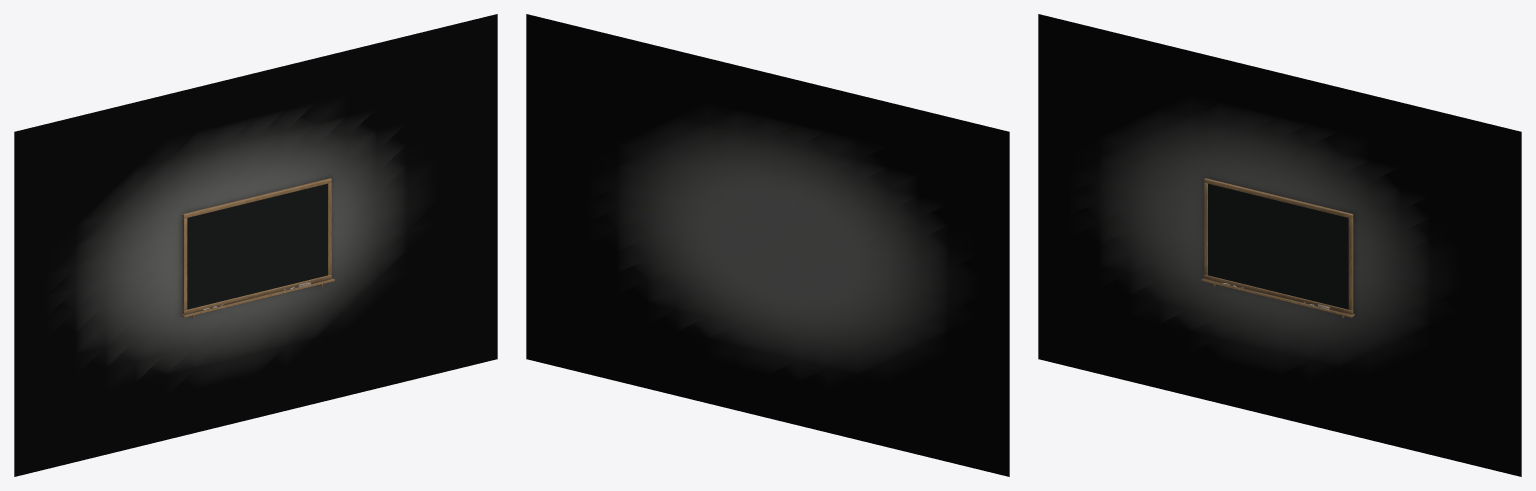
The model's file is chalkboard.glb.
3 views of the same model, side by side, from view 1: azimuth 30°, elevation 25°; view 2: azimuth 150°, elevation 25°; view 3: azimuth 330°, elevation 25° (orthographic).
Parts seen in each view (by area): view 1: wall, board_face, frame_h, frame_v, ledge; view 2: wall; view 3: wall, board_face, frame_h, frame_v, ledge.
Part boxes in pixels (bbox=[...]): wall: bbox=[14, 14, 497, 476]; board_face: bbox=[187, 183, 327, 309]; frame_h: bbox=[182, 178, 331, 314]; frame_v: bbox=[182, 183, 331, 310]; ledge: bbox=[181, 278, 334, 318]; wall: bbox=[526, 14, 1009, 476]; wall: bbox=[1038, 14, 1521, 476]; board_face: bbox=[1208, 183, 1348, 309]; frame_h: bbox=[1204, 178, 1353, 314]; frame_v: bbox=[1204, 183, 1353, 310]; ledge: bbox=[1201, 278, 1354, 318].
Bounding box in the file's own units: 11 × 7.5 × 0.15.
Materials: 8 (1 with a texture image).
